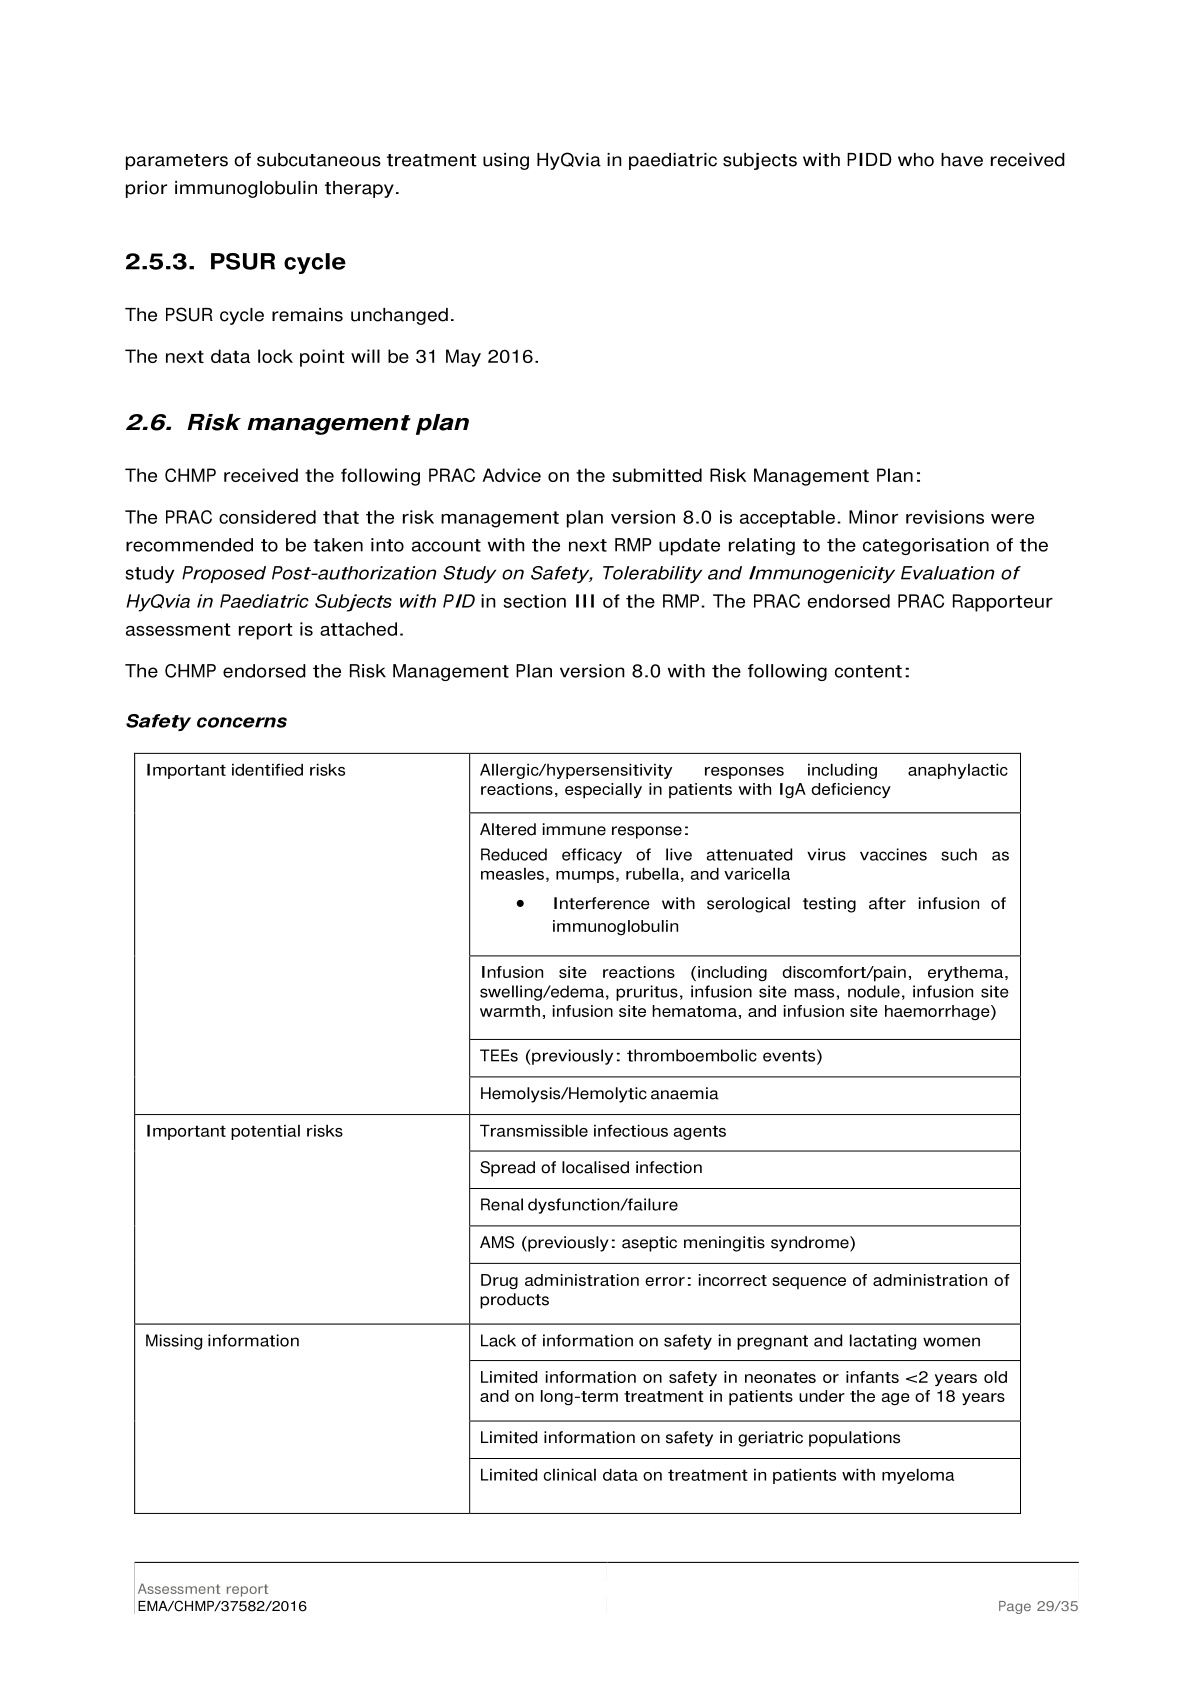merged_cells: (133, 751, 1023, 1515)
